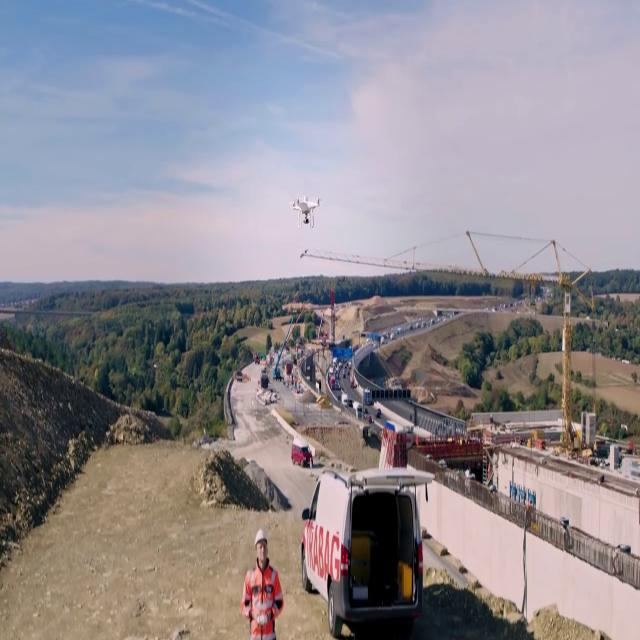drone: (286, 194, 324, 230)
